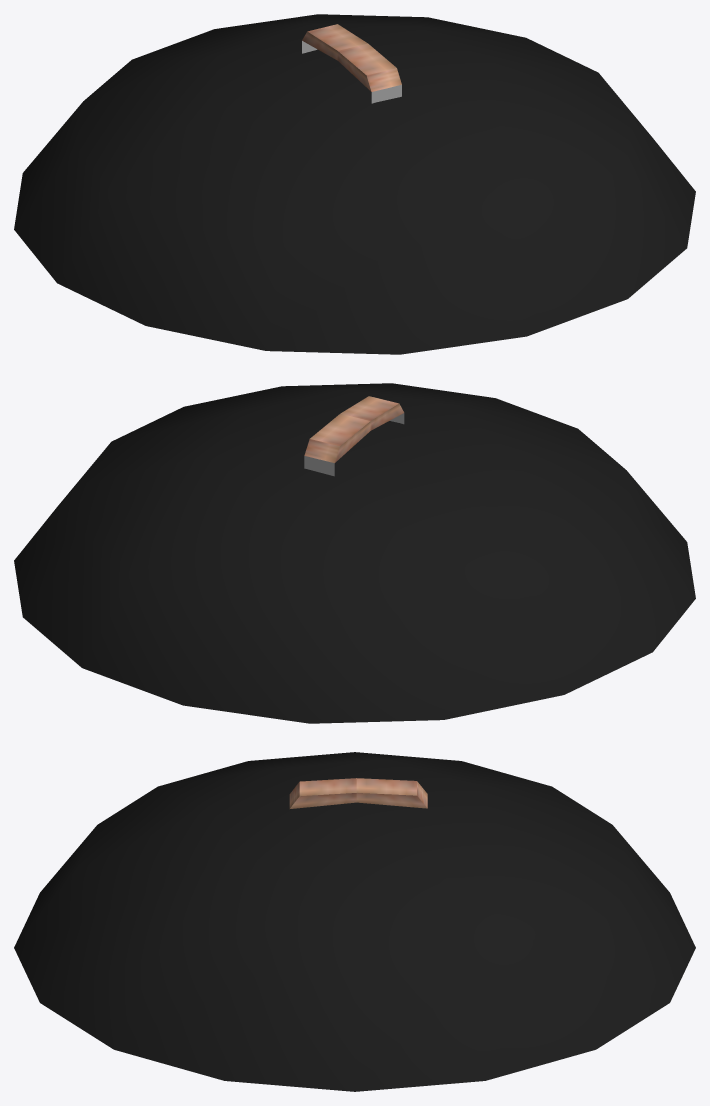
File: bbqlid.obj
The picture shows the model from 3 angles, top to bottom: view 1: azimuth 30°, elevation 25°; view 2: azimuth 150°, elevation 25°; view 3: azimuth 270°, elevation 25°; orthographic projection.
Bounding box in the file's own units: 1.92 × 0.5015 × 1.92.
